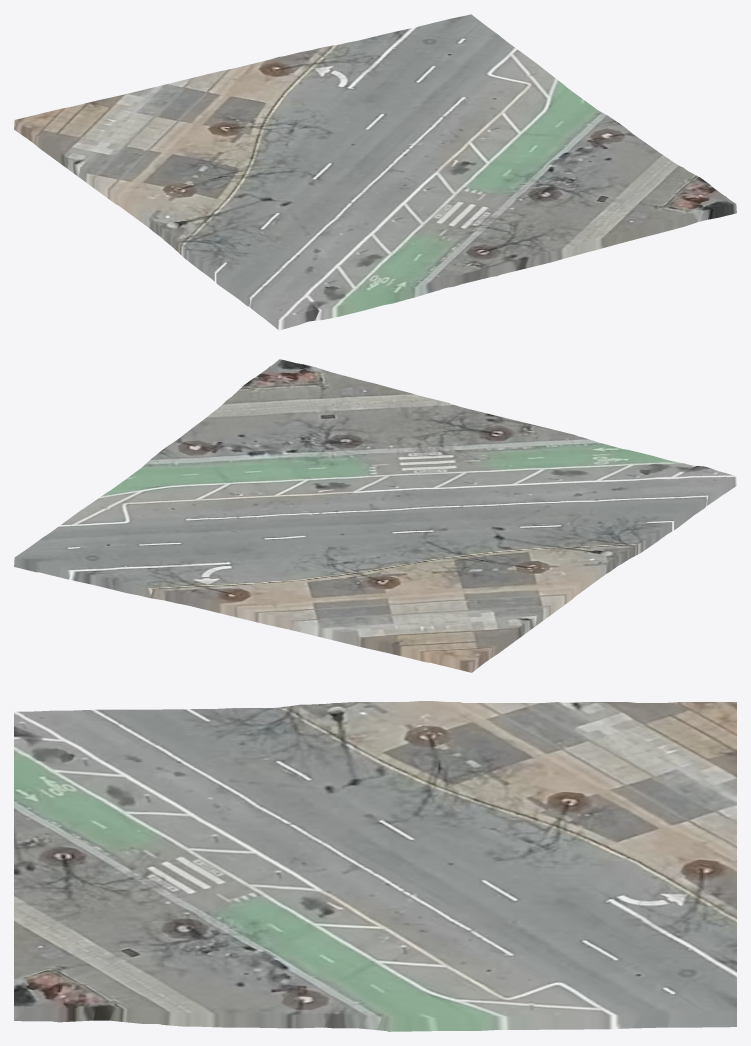
Rendered from z20-167788-405219-h0-yup-uvflip-v3-world.glb.
3 views of the same model, one above another, from view 1: azimuth 30°, elevation 25°; view 2: azimuth 150°, elevation 25°; view 3: azimuth 270°, elevation 25° (orthographic). The views are drawn at different scales.
Size of the model in its own units: 30.24 by 1.28 by 30.32.
Materials: 1 (1 with a texture image).
